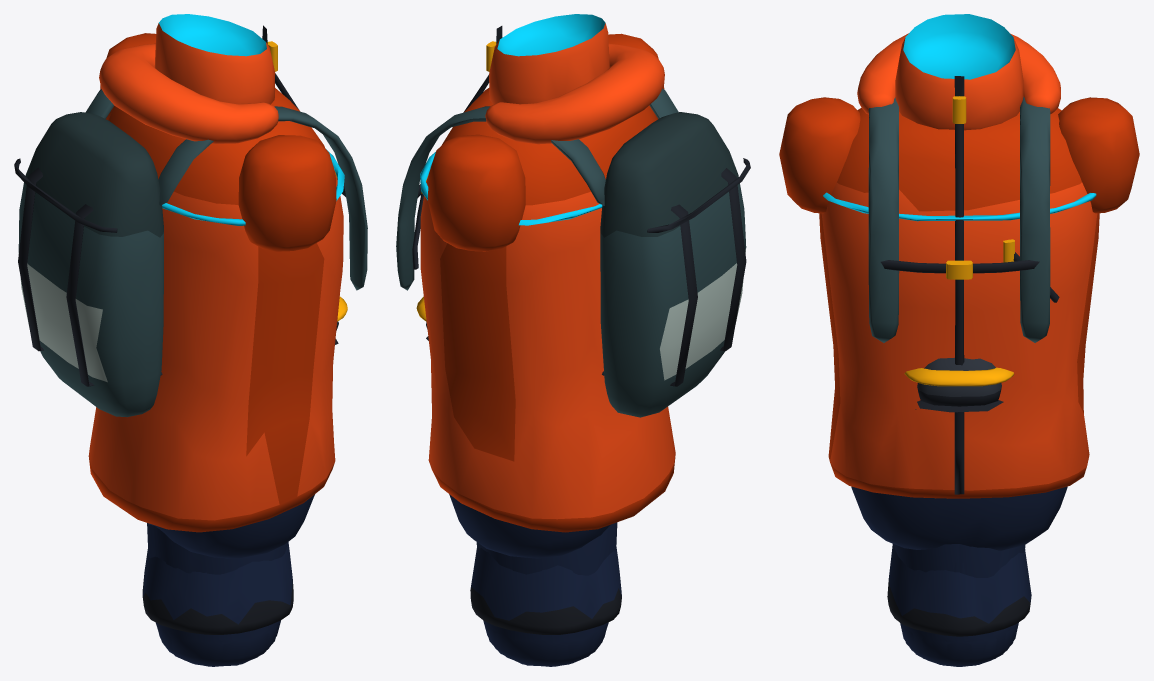
File: rider.glb
3 renders of one model, left to right at view 1: azimuth 30°, elevation 25°; view 2: azimuth 150°, elevation 25°; view 3: azimuth 270°, elevation 25°, orthographic. The views are drawn at different scales.
Parts seen in each view (by area): view 1: rider_torso, rider_shin, rider_thigh_rear, rider_pelvis, rider_thigh_lead; view 2: rider_torso, rider_shin, rider_thigh_lead, rider_pelvis, rider_thigh_rear; view 3: rider_torso, rider_pelvis, rider_shin, rider_thigh_lead, rider_thigh_rear, rider_boot, rider_binding.
Part boxes in pixels (x1,y1,x2,y2): rider_torso: [14, 14, 367, 532]; rider_shin: [142, 542, 293, 634]; rider_thigh_rear: [153, 526, 287, 666]; rider_pelvis: [148, 494, 314, 558]; rider_thigh_lead: [147, 523, 286, 666]; rider_torso: [396, 14, 750, 532]; rider_shin: [470, 547, 621, 634]; rider_thigh_lead: [476, 525, 610, 666]; rider_pelvis: [449, 494, 611, 558]; rider_thigh_rear: [477, 522, 617, 666]; rider_torso: [779, 14, 1139, 498]; rider_pelvis: [851, 486, 1067, 550]; rider_shin: [887, 544, 1031, 636]; rider_thigh_lead: [894, 544, 1018, 666]; rider_thigh_rear: [900, 544, 1025, 666]; rider_boot: [917, 357, 1003, 412]; rider_binding: [904, 367, 1014, 409].
Bounding box in the file's own units: 0.4868 × 1.01 × 0.5342.
